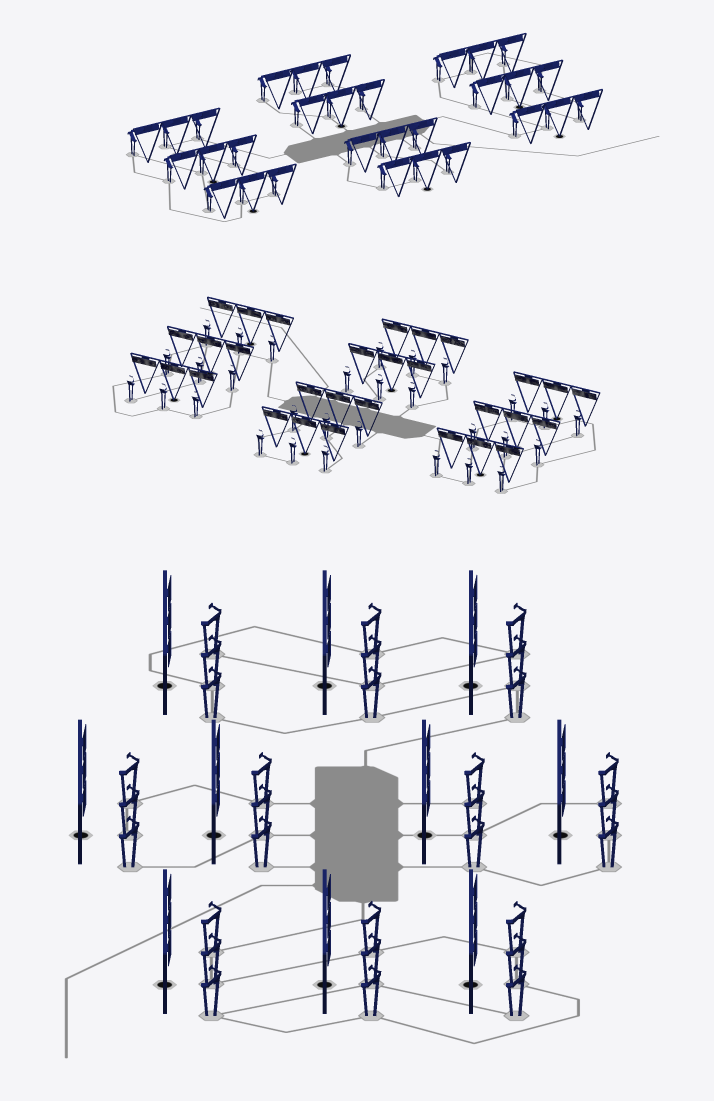
Rendered from ribbon.glb.
3 views of the same model, one above another, from view 1: azimuth 30°, elevation 25°; view 2: azimuth 150°, elevation 25°; view 3: azimuth 270°, elevation 25° (orthographic). The views are drawn at different scales.
Parts seen in each view (by area): view 1: seatviewer_Baked, wiring_Baked; view 2: seatviewer_Baked, wiring_Baked; view 3: wiring_Baked, seatviewer_Baked.
Boxes of the visible parts, x1=… form: seatviewer_Baked: x1=127, y1=33, x2=602, y2=218; wiring_Baked: x1=126, y1=52, x2=659, y2=221; seatviewer_Baked: x1=127, y1=296, x2=600, y2=491; wiring_Baked: x1=112, y1=307, x2=595, y2=493; wiring_Baked: x1=65, y1=626, x2=621, y2=1058; seatviewer_Baked: x1=78, y1=570, x2=618, y2=1015.
Bounding box in the file's own units: 36.04 × 2.47 × 20.29.
Materials: 2 (2 with a texture image).
